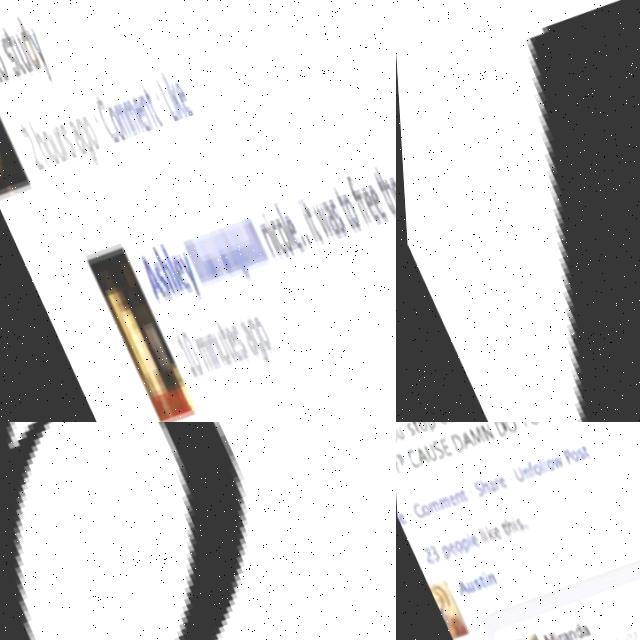0: (170, 324, 198, 374)
1: (166, 329, 189, 374), (601, 635, 610, 640)
2: (11, 117, 42, 173), (416, 544, 429, 563)
3: (422, 543, 435, 561), (605, 631, 618, 640)
6: (0, 422, 396, 640)
A: (409, 443, 427, 466), (454, 426, 472, 449), (448, 576, 465, 596), (574, 620, 587, 636), (553, 626, 565, 640), (482, 476, 493, 491)
C: (400, 446, 418, 469), (405, 500, 422, 520)
D: (445, 431, 462, 451), (565, 618, 580, 638), (488, 422, 504, 436)
E: (435, 435, 449, 456), (441, 540, 453, 556), (485, 524, 497, 540), (442, 491, 454, 506), (492, 472, 504, 487), (464, 533, 475, 547), (396, 509, 403, 525)
F: (522, 458, 532, 474)
H: (473, 475, 486, 493), (498, 514, 511, 532)
I: (504, 513, 514, 530), (475, 525, 483, 540), (476, 569, 484, 584), (545, 627, 554, 640)
K: (478, 521, 491, 540)
L: (532, 456, 541, 470), (472, 527, 481, 541), (536, 455, 543, 469), (460, 532, 467, 545)
M: (463, 423, 482, 445), (422, 497, 438, 514), (432, 492, 447, 510), (619, 625, 635, 640), (535, 628, 552, 640)
N: (475, 422, 492, 441), (559, 624, 571, 640), (480, 570, 492, 585), (448, 489, 459, 503), (517, 465, 528, 478)
O: (497, 422, 517, 434), (525, 459, 539, 475), (564, 445, 576, 461), (446, 537, 458, 553), (415, 501, 427, 516), (540, 455, 552, 470), (412, 422, 426, 432)
P: (435, 543, 448, 561), (557, 445, 570, 463), (455, 536, 466, 552), (420, 422, 435, 432), (614, 629, 625, 640)
R: (549, 628, 559, 640), (488, 476, 495, 488)
S: (426, 437, 443, 460), (467, 478, 480, 497), (570, 443, 582, 458), (510, 515, 521, 531), (400, 422, 412, 435), (466, 576, 477, 590)
T: (576, 441, 587, 457), (495, 520, 505, 535), (472, 572, 482, 587), (406, 422, 419, 433), (455, 486, 464, 500)
U: (418, 440, 436, 462), (506, 462, 521, 481), (460, 579, 471, 592), (396, 425, 402, 440)
W: (546, 450, 562, 468)
Y: (510, 422, 528, 428)
